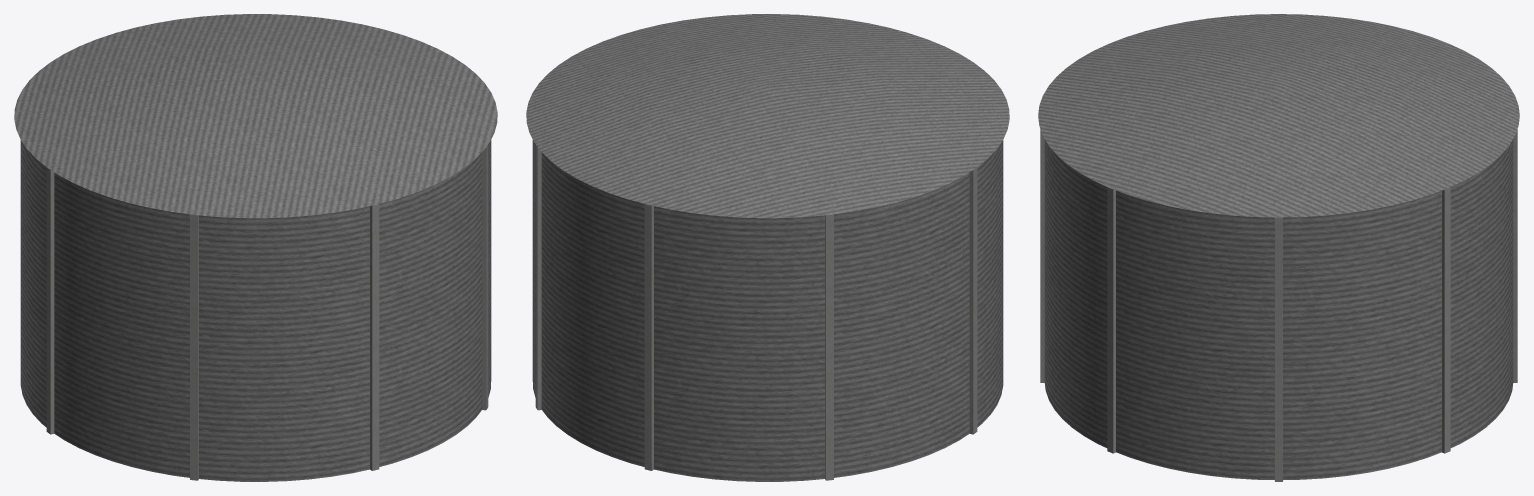
Rendered from water-tank-corrigated-8x3-cbj_LOD00.gltf.
The picture shows the model from 3 angles, left to right: view 1: azimuth 30°, elevation 25°; view 2: azimuth 150°, elevation 25°; view 3: azimuth 270°, elevation 25°; orthographic projection.
Parts seen in each view (by area): view 1: tank0; view 2: tank0; view 3: tank0.
Part boxes in pixels (x1,y1,x2,y2): tank0: [14, 14, 497, 481]; tank0: [526, 14, 1009, 481]; tank0: [1038, 14, 1519, 481].
Bounding box in the file's own units: 8.22 × 5.54 × 8.22.
